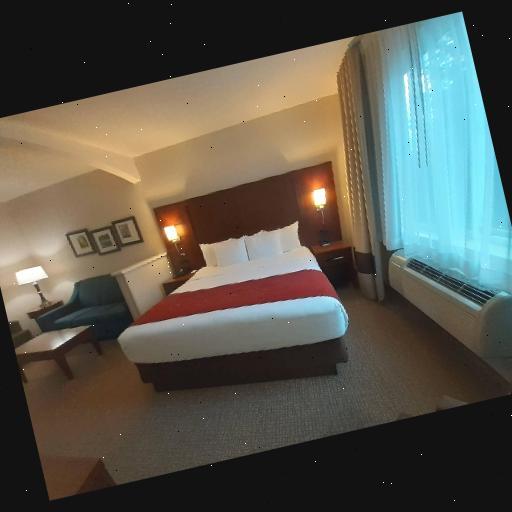clean_bed: (117, 162, 345, 393)
clean_floor: (23, 281, 490, 486)
lamp: (11, 250, 64, 320)
organised_pillow: (192, 220, 306, 276)
organized table: (14, 320, 110, 385)
